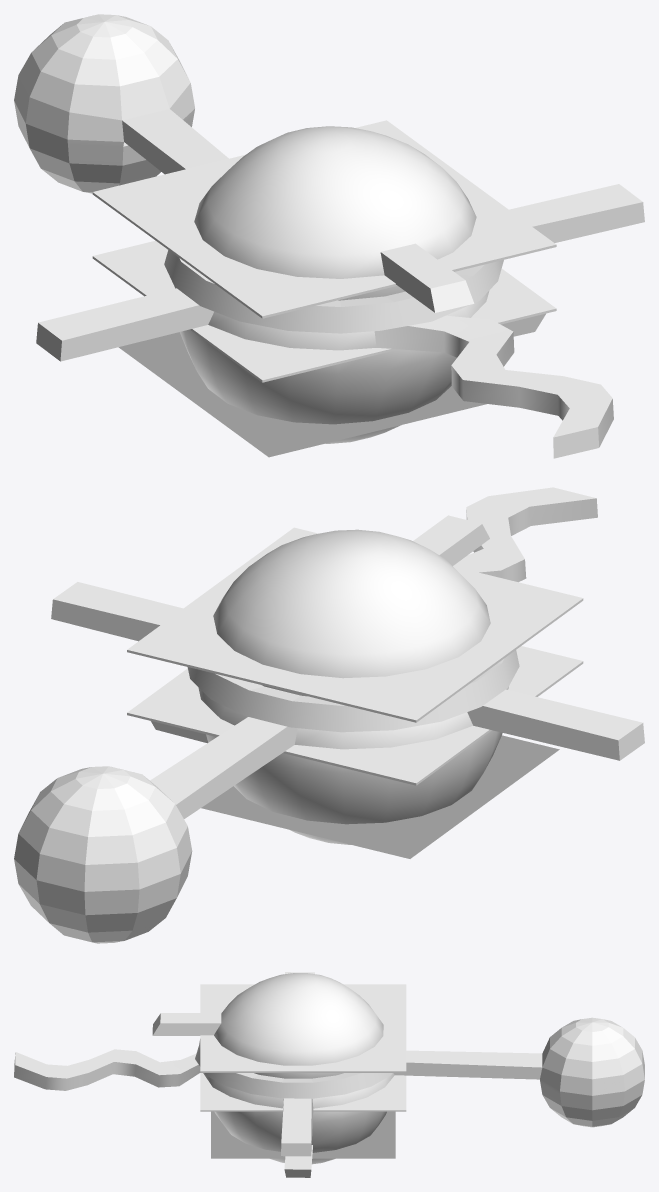
File: lobby_new.fbx
3 views of the same model, one above another, from view 1: azimuth 30°, elevation 25°; view 2: azimuth 150°, elevation 25°; view 3: azimuth 270°, elevation 25° (orthographic). The views are drawn at different scales.
Parts seen in each view (by area): view 1: pSphere5, pPlane25, pPlane1, pPlane26; view 2: pSphere5, pPlane25, pPlane1, pPlane26; view 3: pSphere5, pPlane25, pPlane26, pPlane1.
Part boxes in pixels (<box>): pSphere5: <box>14,14,644,458</box>; pPlane25: <box>92,120,556,318</box>; pPlane1: <box>92,240,556,382</box>; pPlane26: <box>118,332,486,457</box>; pSphere5: <box>14,487,644,943</box>; pPlane25: <box>127,527,583,722</box>; pPlane1: <box>127,646,583,785</box>; pPlane26: <box>201,735,559,858</box>; pSphere5: <box>14,972,644,1177</box>; pPlane25: <box>200,984,406,1072</box>; pPlane26: <box>211,1111,395,1158</box>; pPlane1: <box>200,1073,406,1111</box>.
Size of the model in its own units: 8006 by 3795 by 12387.
Materials: 3 (1 with a texture image).
